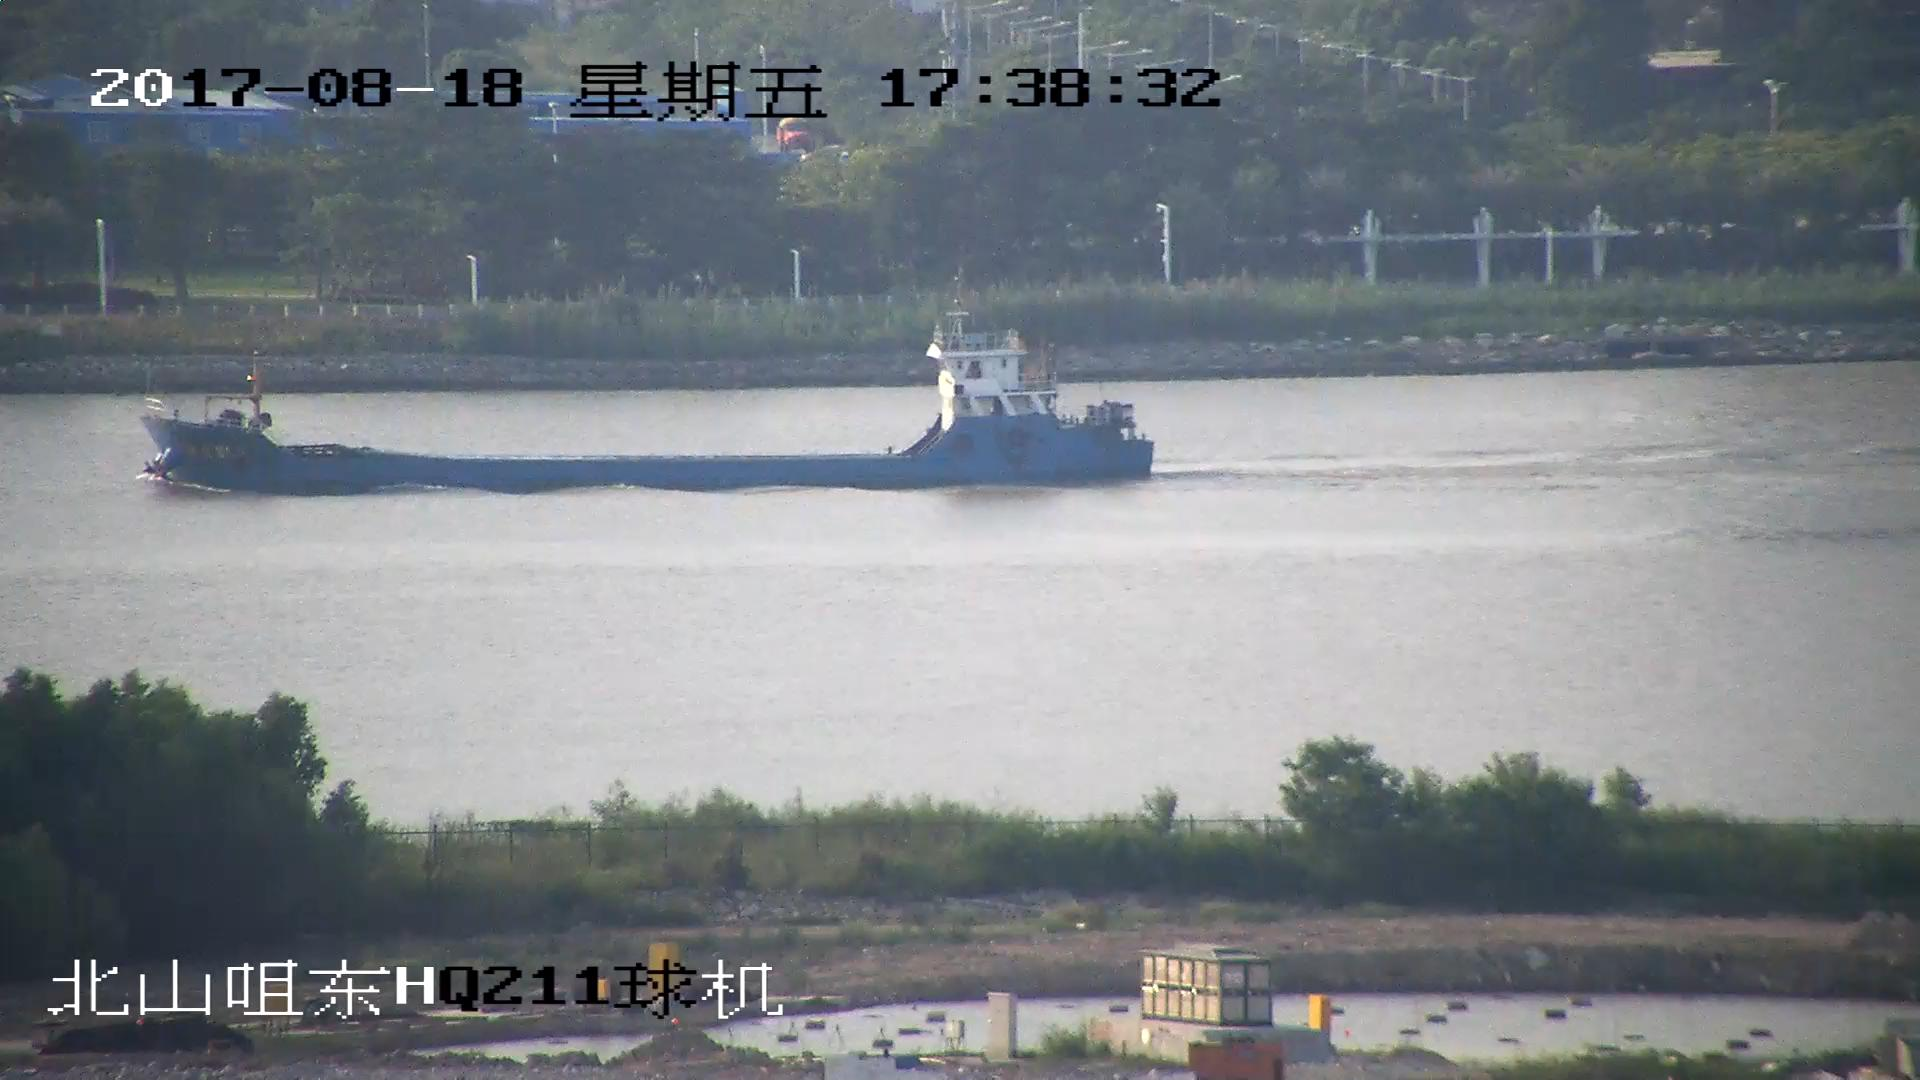general cargo ship: (134, 286, 1158, 494)
